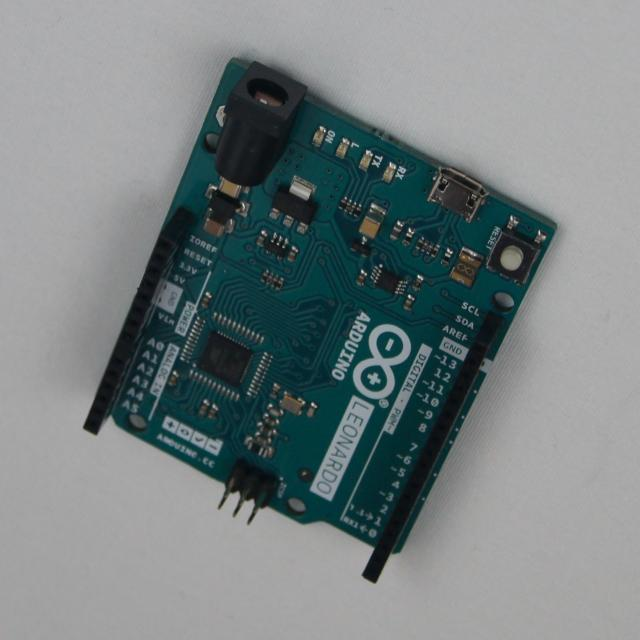Arduino-leonardo: (85, 59, 557, 583)
